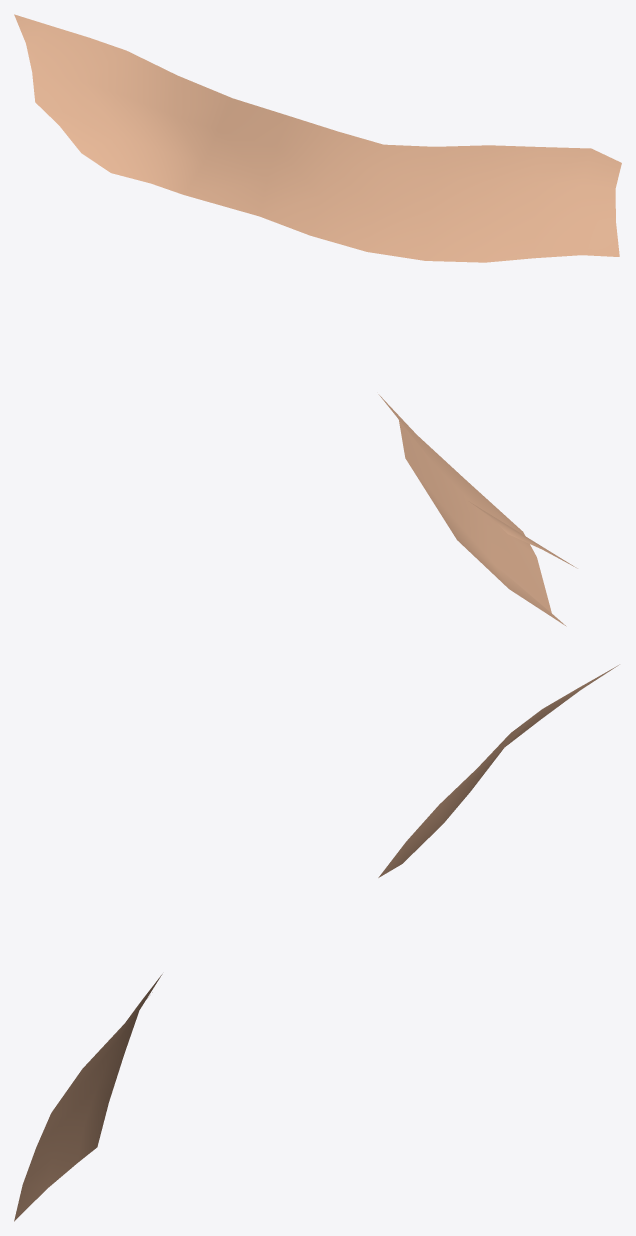
Rendered from infraclavicular-fossa-r.glb.
3 renders of one model, top to bottom at view 1: azimuth 30°, elevation 25°; view 2: azimuth 150°, elevation 25°; view 3: azimuth 270°, elevation 25°, orthographic. The views are drawn at different scales.
Parts seen in each view (by area): view 1: Infraclavicular fossa.r; view 2: Infraclavicular fossa.r; view 3: Infraclavicular fossa.r.
Boxes of the visible parts, left/top/right/bottom form: Infraclavicular fossa.r: left=14, top=14, right=621, bottom=262; Infraclavicular fossa.r: left=378, top=394, right=577, bottom=626; Infraclavicular fossa.r: left=14, top=664, right=619, bottom=1221.
Size of the model in its own units: 0.1256 by 0.0506 by 0.1015.
